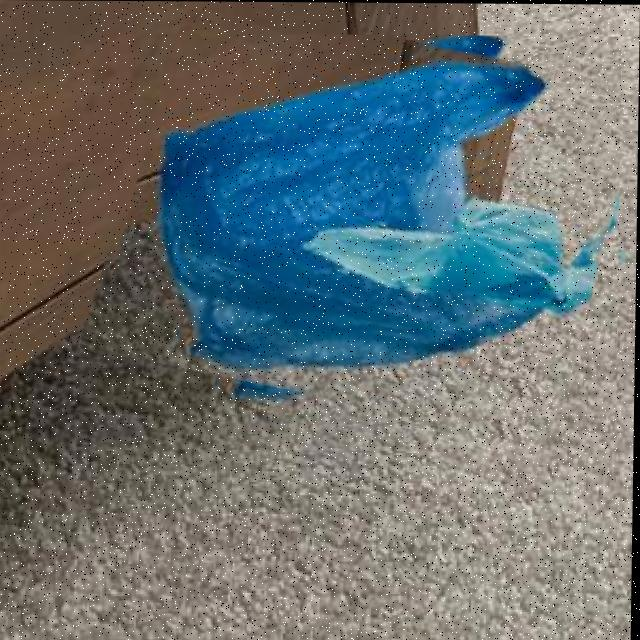litter: (99, 33, 622, 459)
